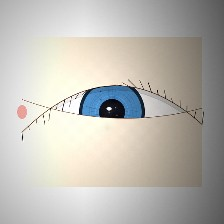hemorrhage_spot: (86, 104, 150, 155)
